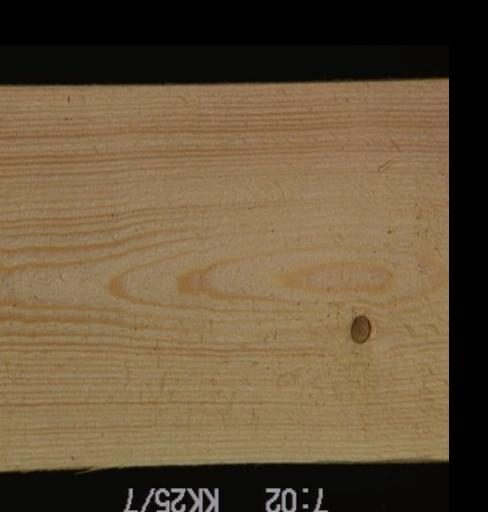dry_knot: (349, 313, 373, 346)
